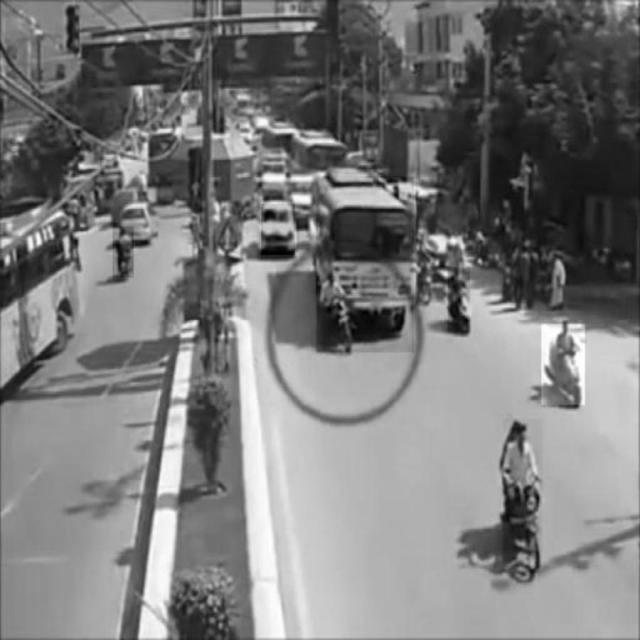accident: (317, 177, 415, 353)
vehicle: (504, 419, 544, 567), (541, 324, 585, 405), (261, 204, 295, 255), (449, 267, 471, 333), (113, 226, 133, 277)
